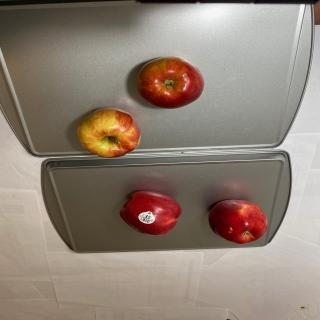Apple: (136, 55, 204, 108), (76, 107, 141, 158), (119, 190, 182, 236), (208, 199, 268, 244)
